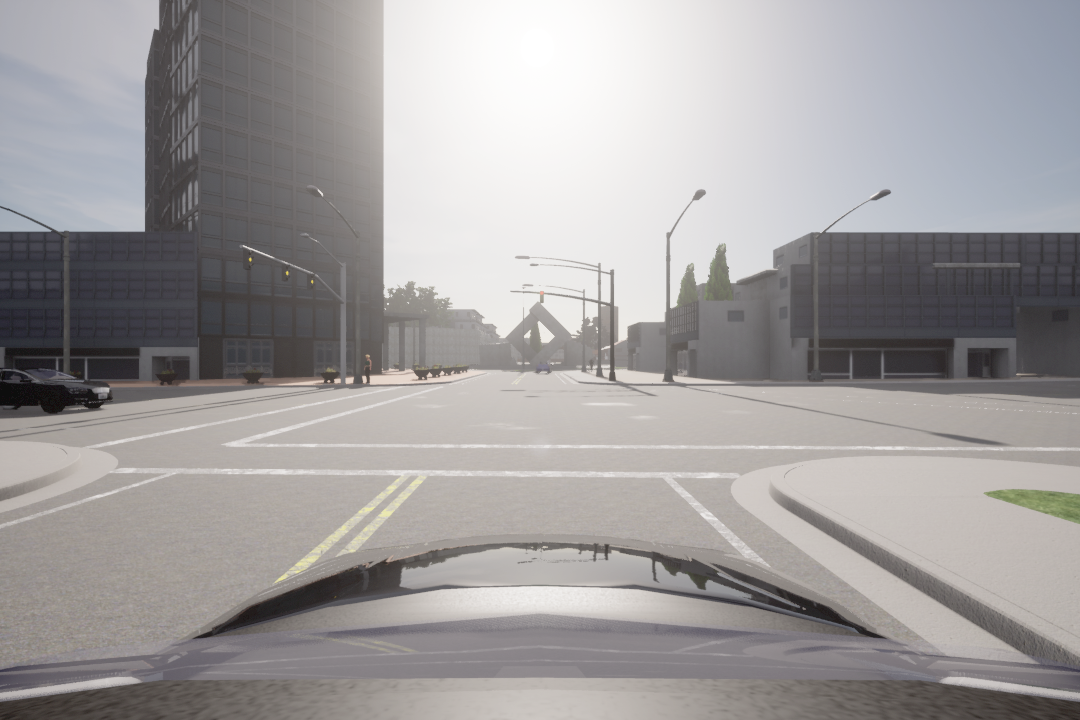TrafficLight: (237, 241, 253, 271), (279, 257, 294, 284), (306, 271, 318, 294), (537, 289, 545, 308)
